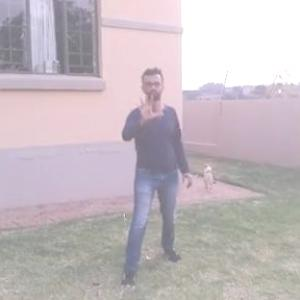follow_hand: (133, 90, 166, 125)
